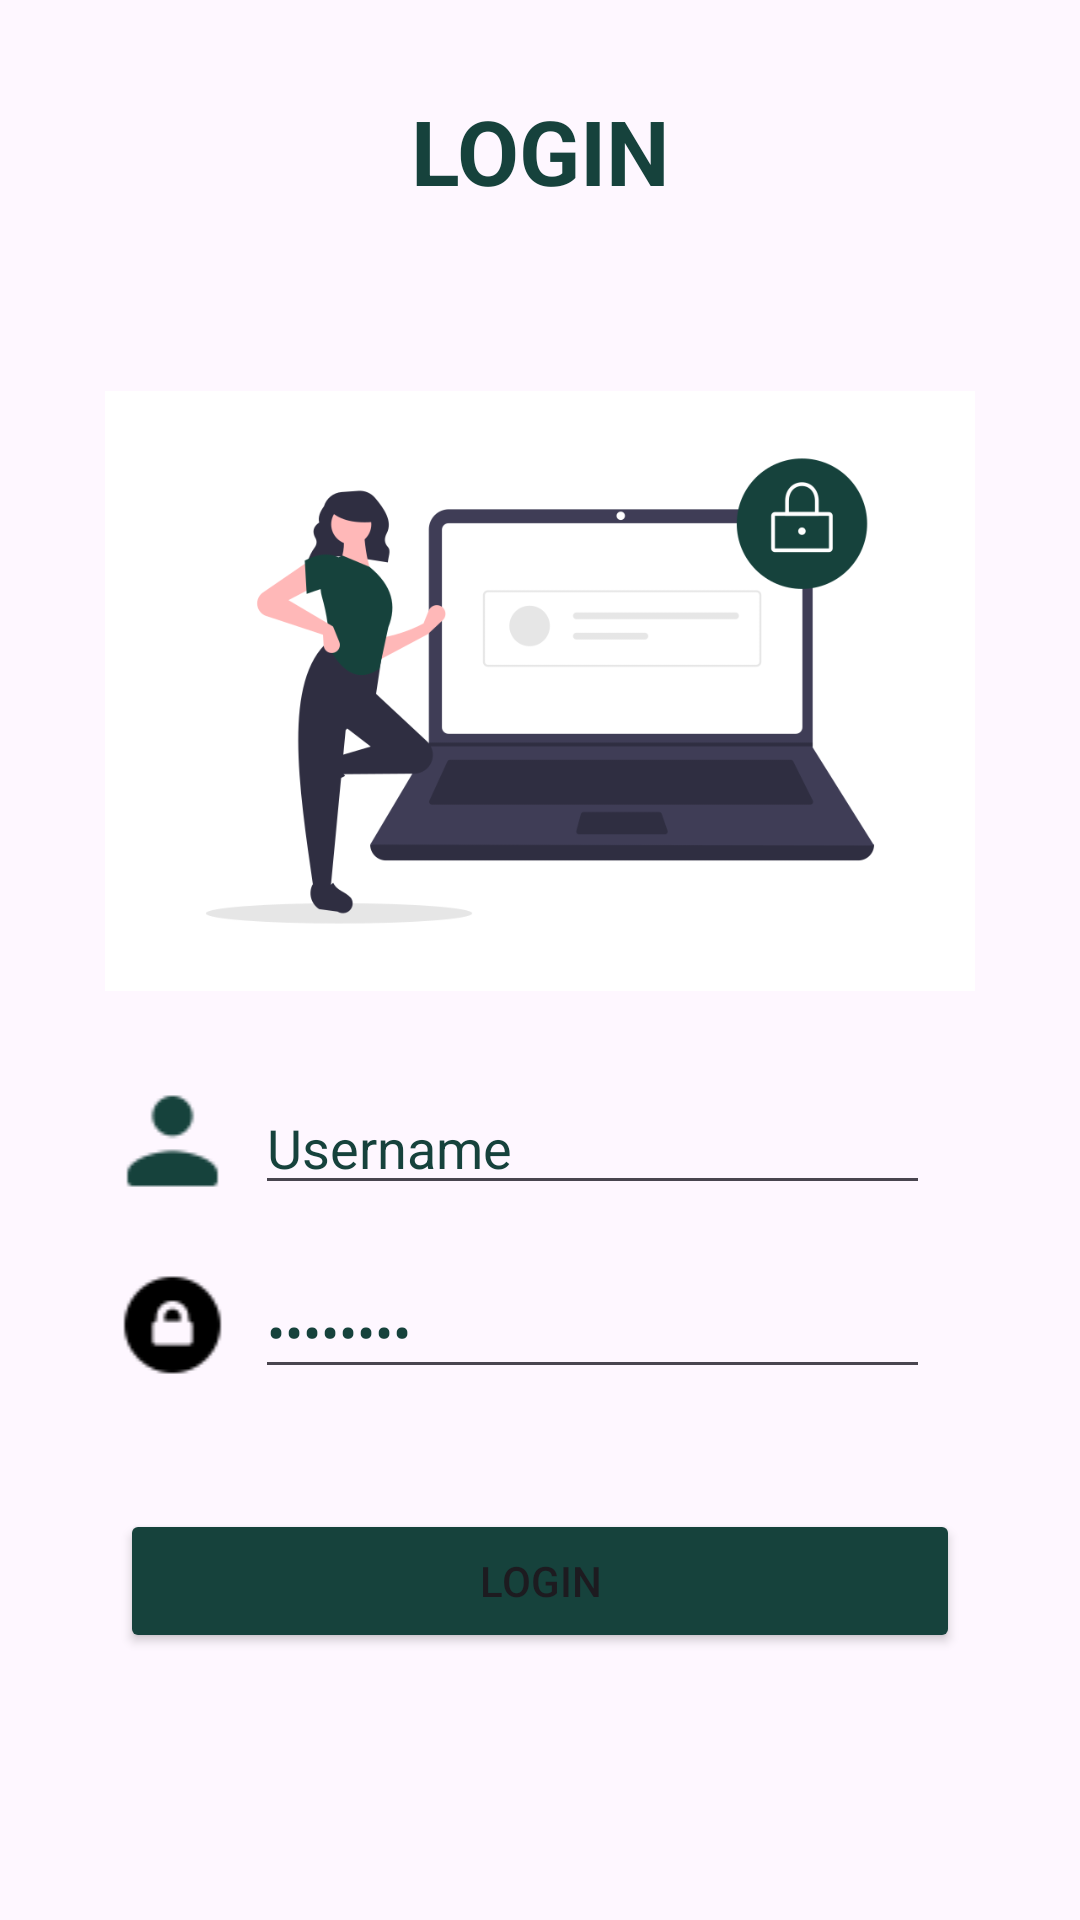

Point at icon controls on the screen. Image size 1080 × 1920, points as point (x, y).
passs: point (172, 1325)
usr: point (172, 1141)
